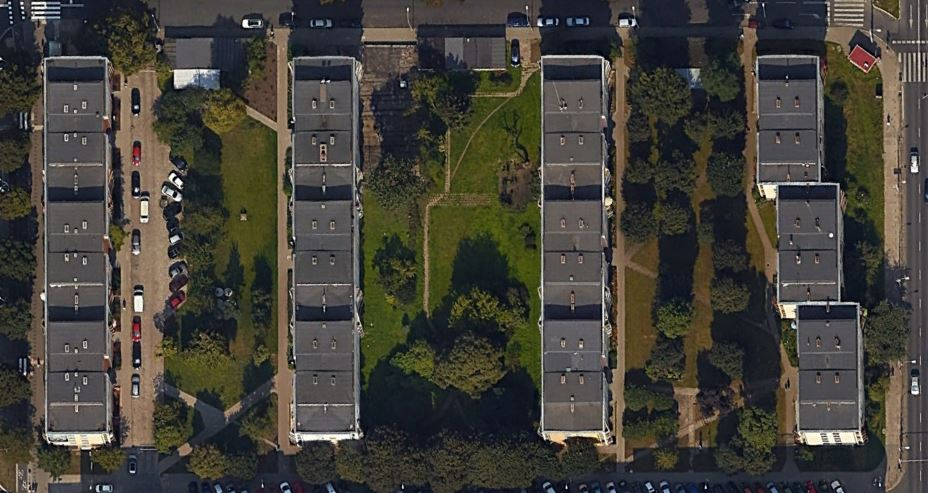block of flats: (745, 45, 869, 454), (536, 46, 623, 451), (38, 49, 120, 448), (286, 50, 365, 448)
garage: (414, 27, 514, 76), (171, 30, 246, 79)
